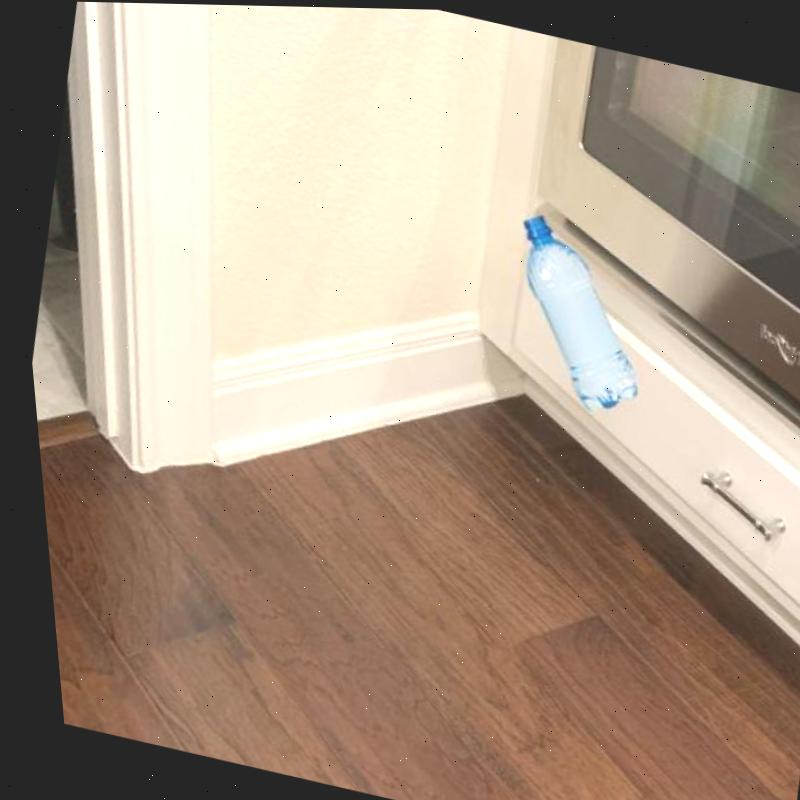botella: (483, 210, 662, 416)
